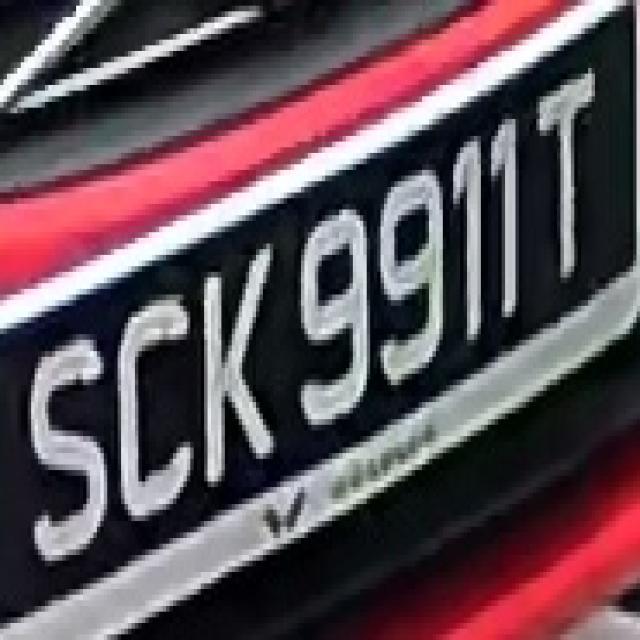1: (446, 113, 488, 368), (492, 96, 522, 340)
9: (287, 187, 384, 447), (367, 147, 453, 385)
C: (107, 278, 204, 532)
K: (183, 221, 294, 510)
S: (24, 317, 118, 584)
T: (519, 63, 605, 294)
